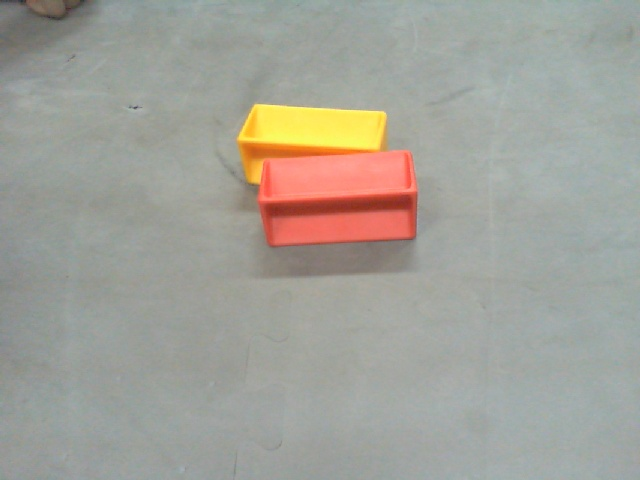RedSample: (254, 148, 420, 253)
YellowSample: (237, 104, 391, 185)
